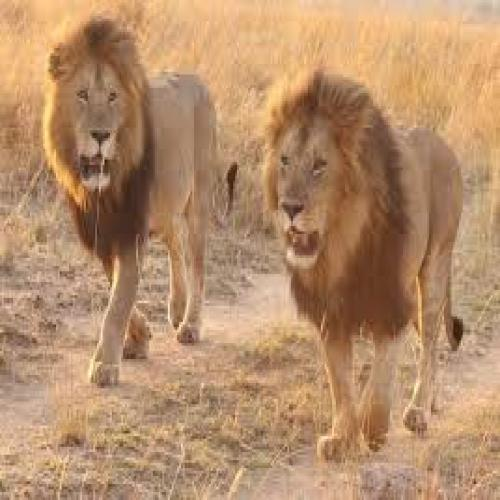lion-endangered: (258, 70, 467, 466), (43, 18, 240, 384)
